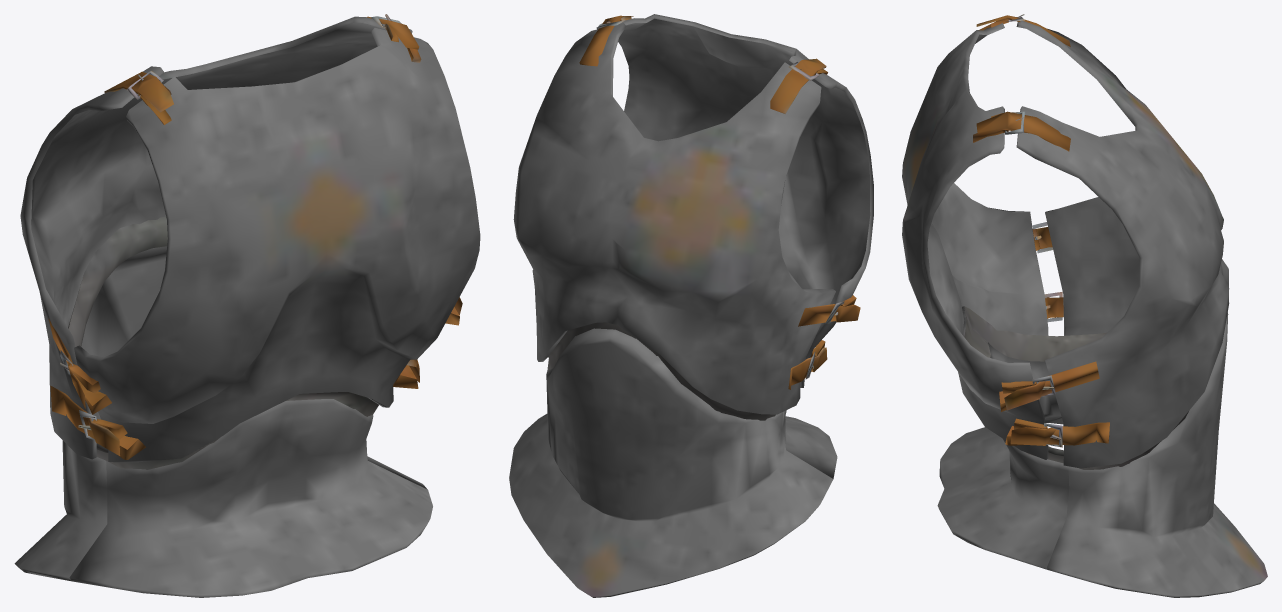
File: acero.glb
3 renders of one model, left to right at view 1: azimuth 30°, elevation 25°; view 2: azimuth 150°, elevation 25°; view 3: azimuth 270°, elevation 25°, orthographic. The views are drawn at different scales.
Parts seen in each view (by area): view 1: defaultMaterial; view 2: defaultMaterial; view 3: defaultMaterial.
Part boxes in pixels (x1,y1,x2,y2): defaultMaterial: [14, 14, 480, 597]; defaultMaterial: [509, 14, 873, 597]; defaultMaterial: [902, 14, 1267, 597].
Size of the model in its own units: 0.6574 by 1 by 0.6423.
1 material, 1 textured.
